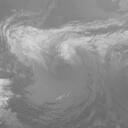cyclone: (26, 26, 96, 104)
